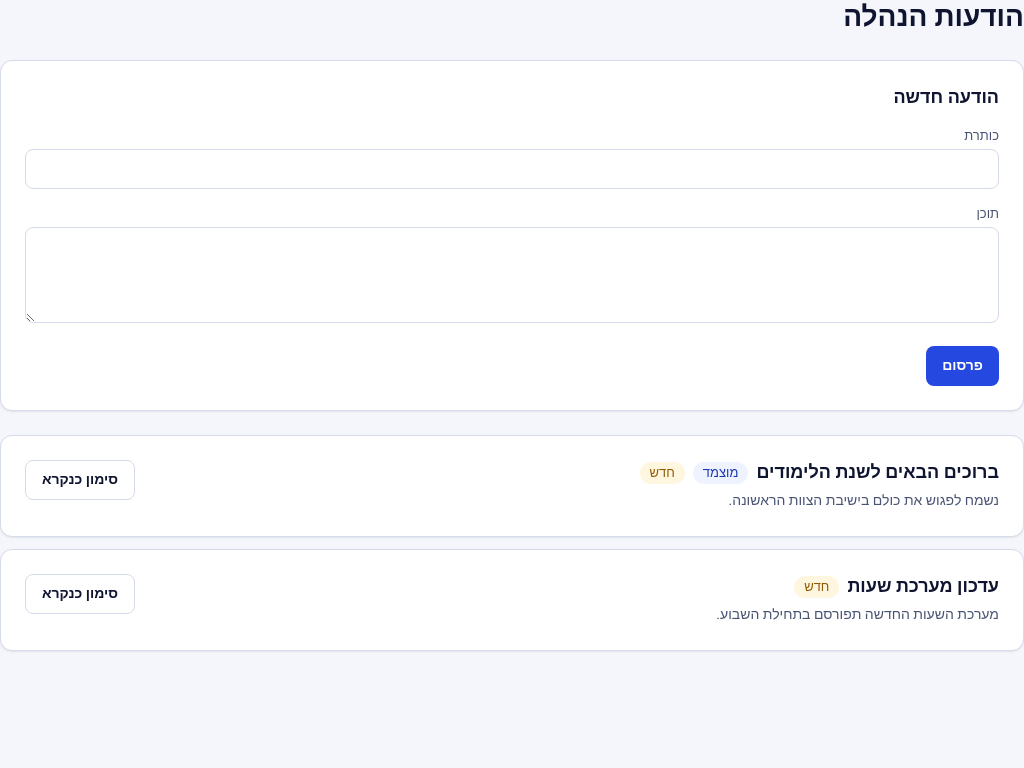
Test: reference announcements screen › lists the announcements and lets management add one
Expected: the heading "ברוכים הבאים לשנת הלימודים" is shown, [756,460,999,486]
In the field labelled "כותרת": (512, 169) [25,149,999,189], type "ישיבת צוות"
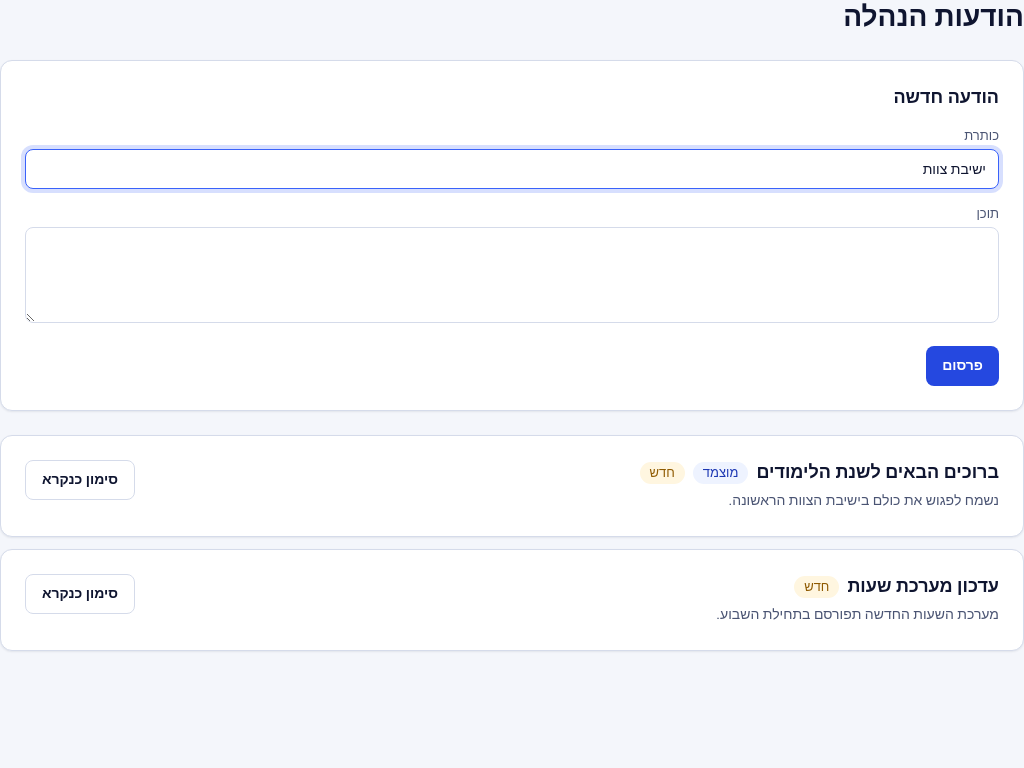
In the text box labelled "תוכן": (512, 275) [25,227,999,323], type "מחר בשעה 8"
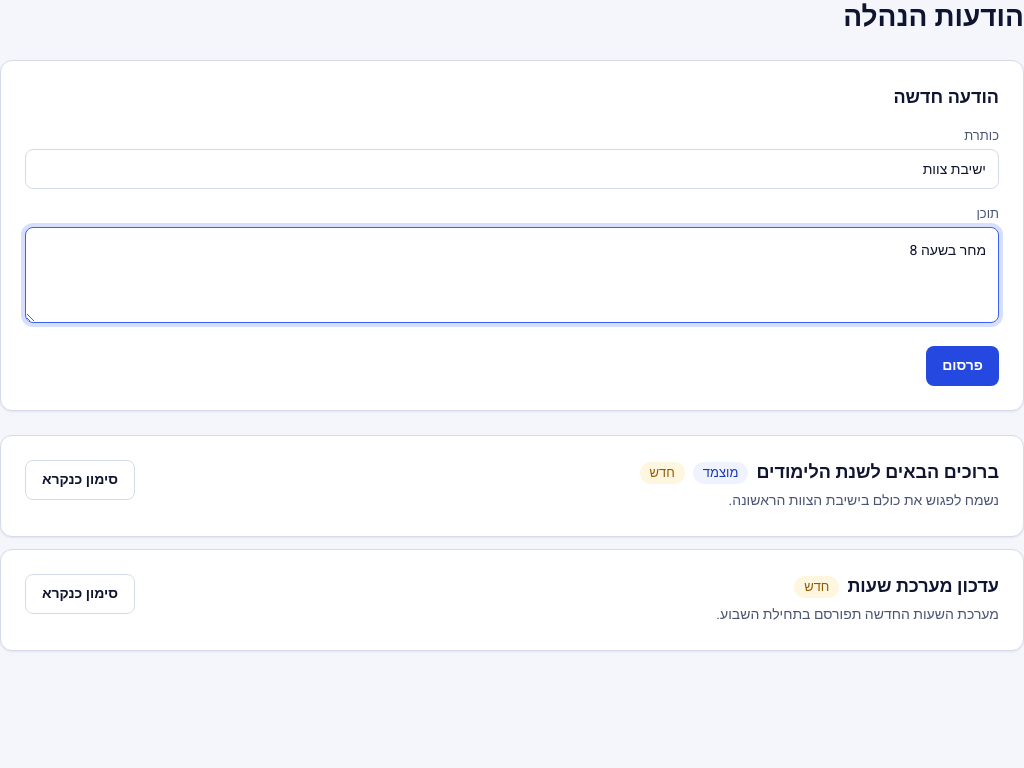
Click the button "פרסום": click(963, 366) [926,346,999,386]
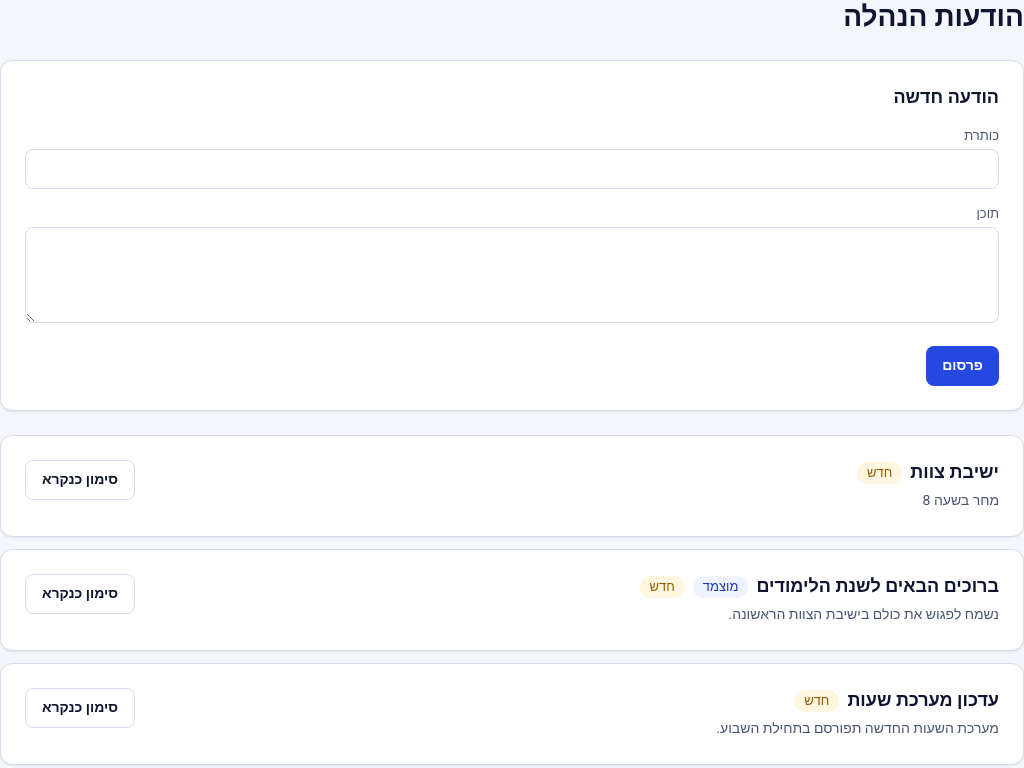
Expected: the heading "ישיבת צוות" is shown, [910,460,999,486]
